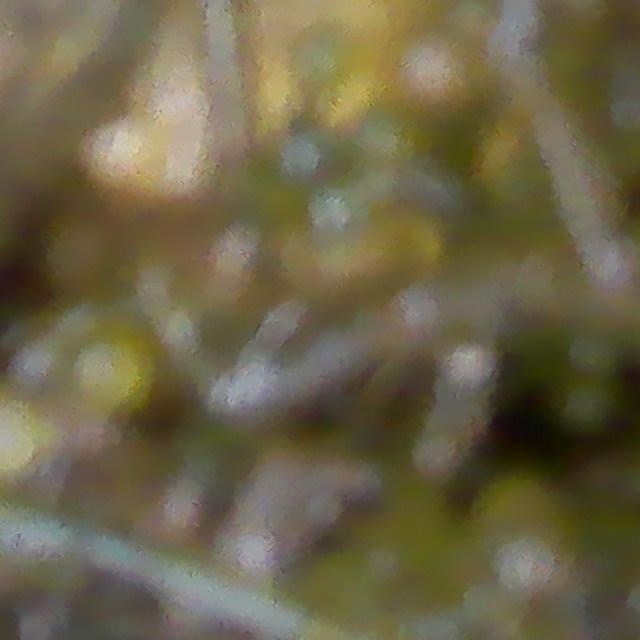SeaGrape: (42, 213, 124, 298), (552, 372, 622, 439)
